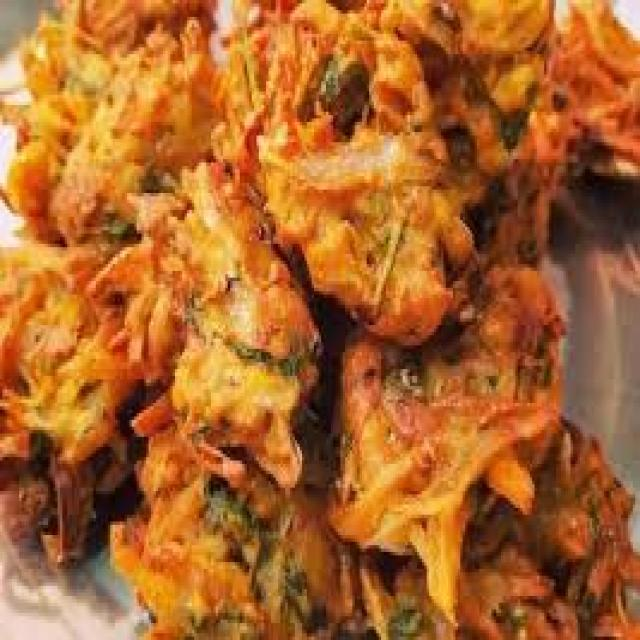BAJI: (0, 0, 638, 637)
